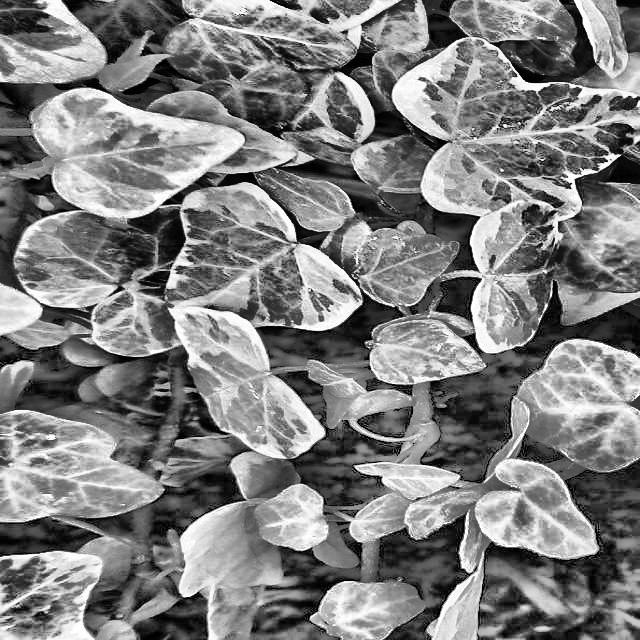plants: (7, 0, 609, 639), (348, 447, 598, 583), (158, 446, 334, 596)
